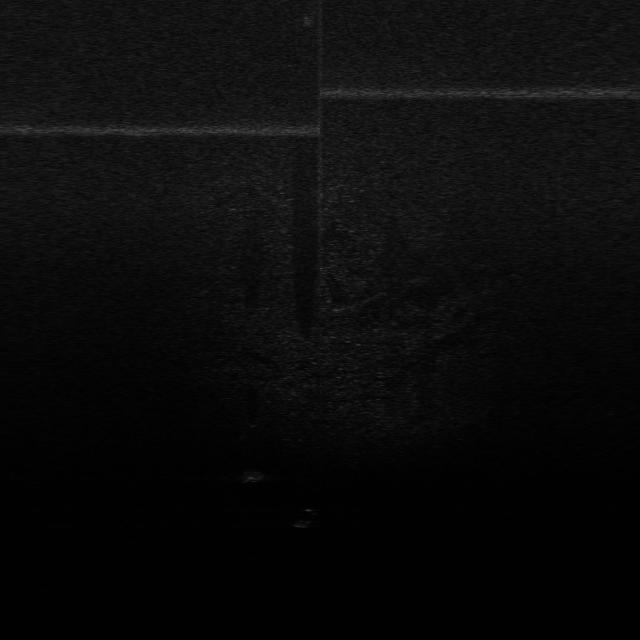ball: (242, 413, 264, 432)
circle cage: (238, 464, 267, 489)
tyre: (292, 503, 323, 530)
